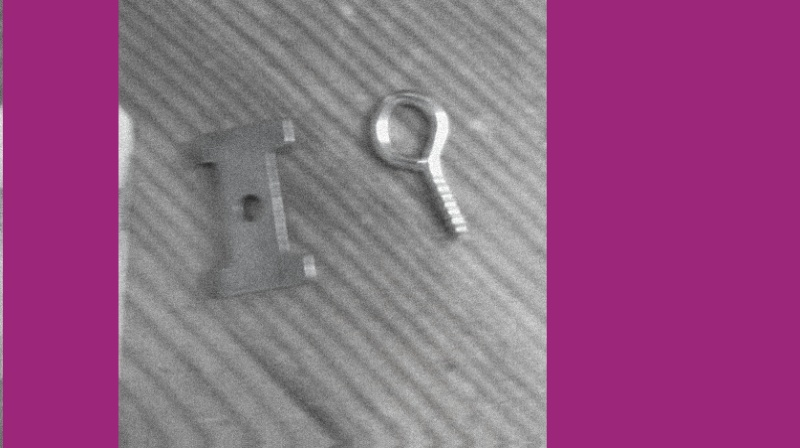O001: (364, 81, 473, 253)
O002: (186, 113, 317, 305)
